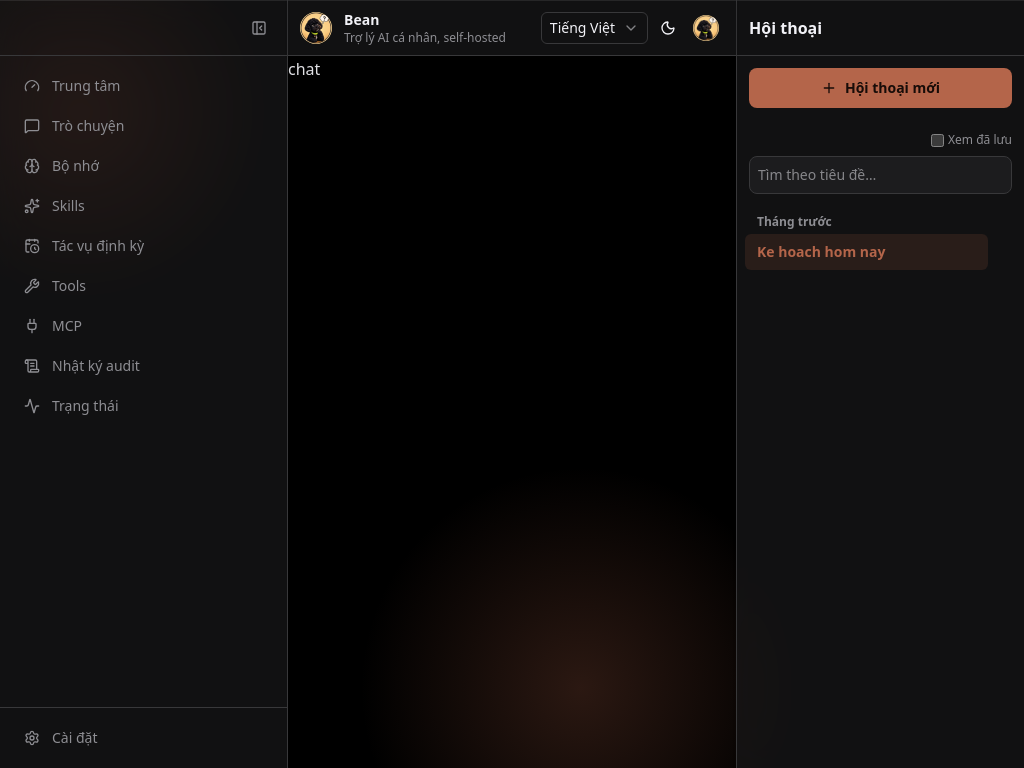
Test: ChatLayout sidebar › tim hoi thoai theo tieu de va bao ro khi khong co ket qua
Expected: the link "Ke hoach hom nay" is shown, [745, 234, 988, 270]
Type "khong co" into the search field with placeholder "Tìm theo tiêu đề…" at (880, 175), box [749, 156, 1012, 194]
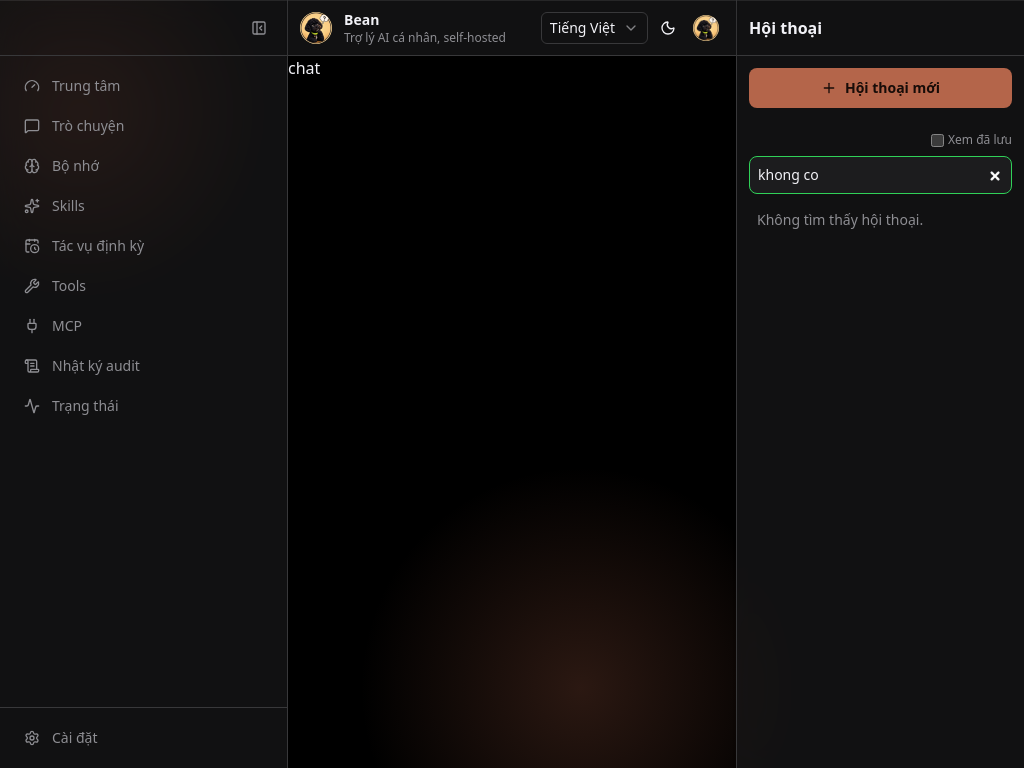
Result: the text "Không tìm thấy hội thoại." is shown at [757, 210, 923, 229]
